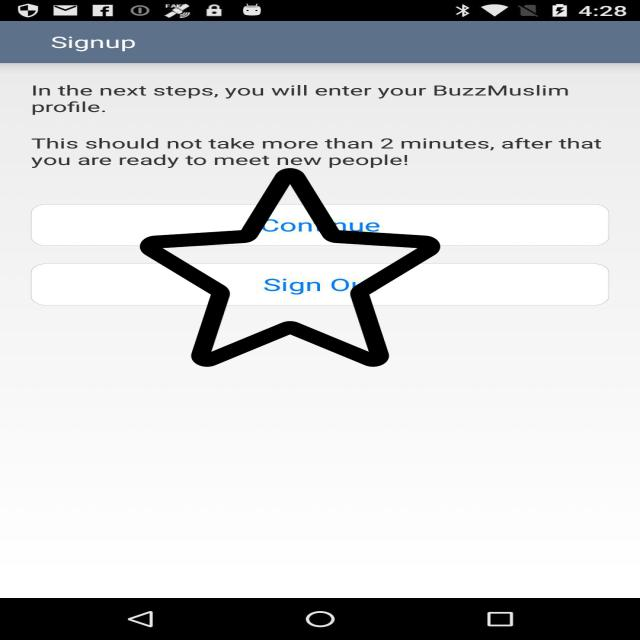forced continuity: (140, 164, 440, 371)
